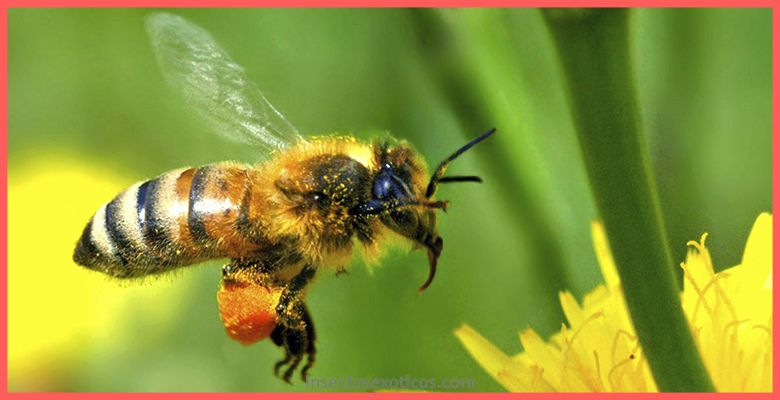bee: (58, 11, 500, 387)
